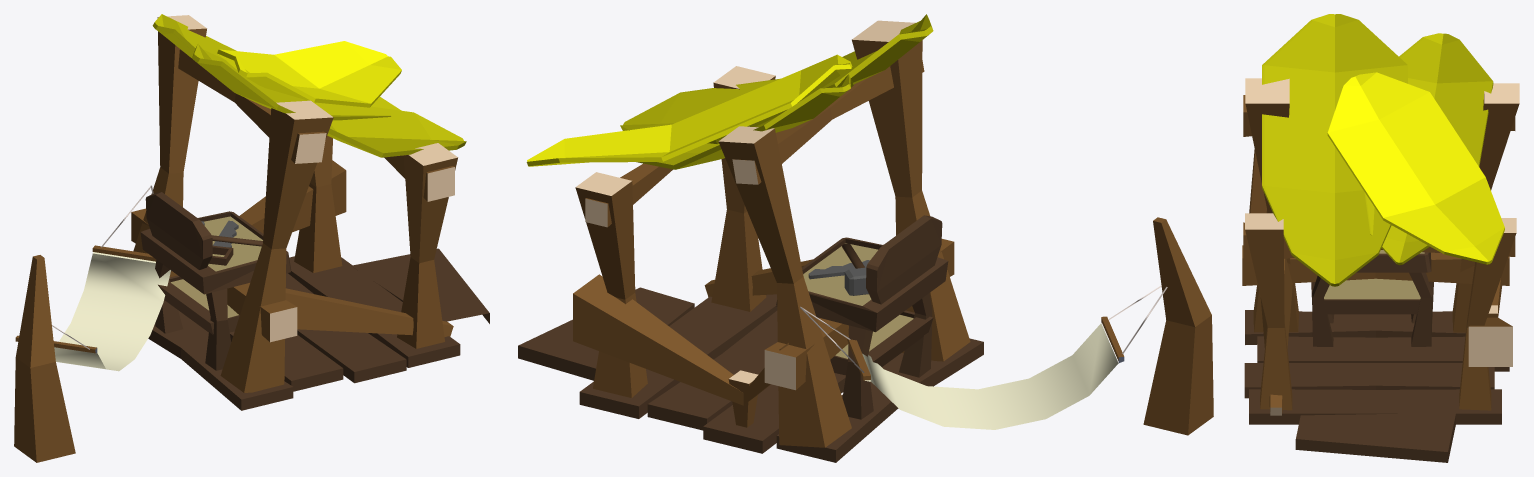
File: ouvrier.fbx
3 views of the same model, side by side, from view 1: azimuth 30°, elevation 25°; view 2: azimuth 150°, elevation 25°; view 3: azimuth 270°, elevation 25° (orthographic). The views are drawn at different scales.
Parts seen in each view (by area): view 1: Cube; view 2: Cube; view 3: Cube.
Part boxes in pixels (x1,y1,x2,y2): Cube: [14, 14, 489, 462]; Cube: [518, 14, 1213, 462]; Cube: [1242, 14, 1519, 462].
Size of the model in its own units: 605 by 368 by 297.
